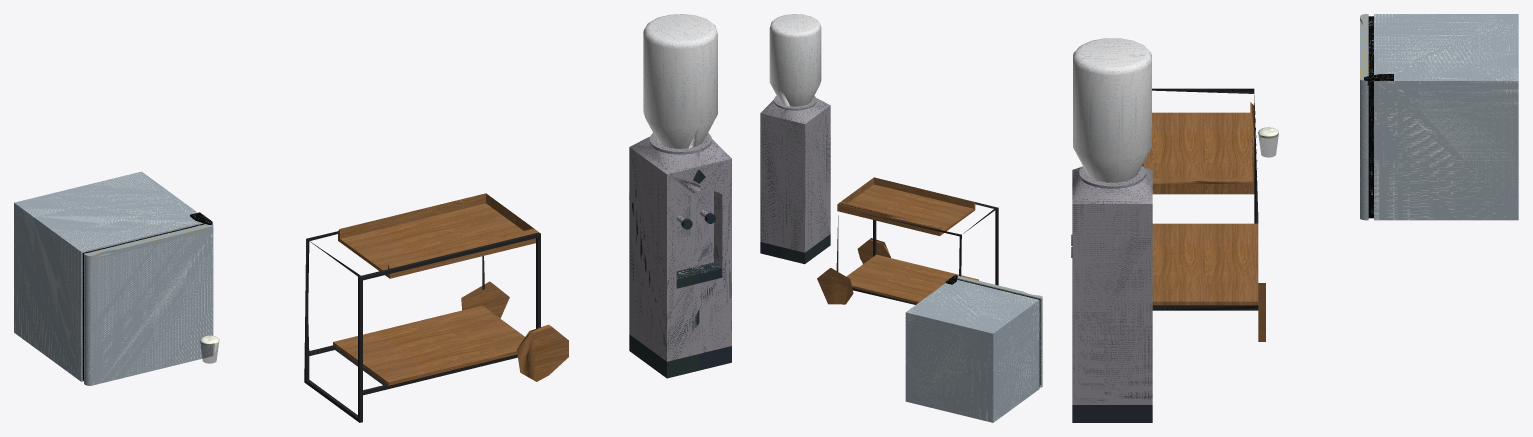
The model's file is minifridge.fbx.
The picture shows the model from 3 angles, left to right: view 1: azimuth 30°, elevation 25°; view 2: azimuth 150°, elevation 25°; view 3: azimuth 270°, elevation 25°; orthographic projection. The views are drawn at different scales.
Parts seen in each view (by area): view 1: model_1SyTr3p7fCUPL0xi2Fmk_Q, Furniture_0tt85ol017OxAMLPBBfpRR, model_1NwRayZUf7MQsVJ5l9kZ$b; view 2: model_1SyTr3p7fCUPL0xi2Fmk_Q, Furniture_0tt85ol017OxAMLPBBfpRR, model_1NwRayZUf7MQsVJ5l9kZ$b; view 3: model_1SyTr3p7fCUPL0xi2Fmk_Q, Furniture_0tt85ol017OxAMLPBBfpRR, model_1NwRayZUf7MQsVJ5l9kZ$b.
Part boxes in pixels (bbox=[...]): model_1SyTr3p7fCUPL0xi2Fmk_Q: bbox=[14, 171, 219, 385]; Furniture_0tt85ol017OxAMLPBBfpRR: bbox=[629, 14, 731, 378]; model_1NwRayZUf7MQsVJ5l9kZ$b: bbox=[304, 193, 568, 422]; model_1SyTr3p7fCUPL0xi2Fmk_Q: bbox=[905, 275, 1042, 422]; Furniture_0tt85ol017OxAMLPBBfpRR: bbox=[760, 14, 830, 264]; model_1NwRayZUf7MQsVJ5l9kZ$b: bbox=[817, 177, 998, 304]; model_1SyTr3p7fCUPL0xi2Fmk_Q: bbox=[1258, 14, 1518, 220]; Furniture_0tt85ol017OxAMLPBBfpRR: bbox=[1071, 38, 1152, 422]; model_1NwRayZUf7MQsVJ5l9kZ$b: bbox=[1142, 88, 1265, 341].
Bounding box in the file's own units: 239 × 147 × 169.
Materials: 15 (3 with a texture image).
